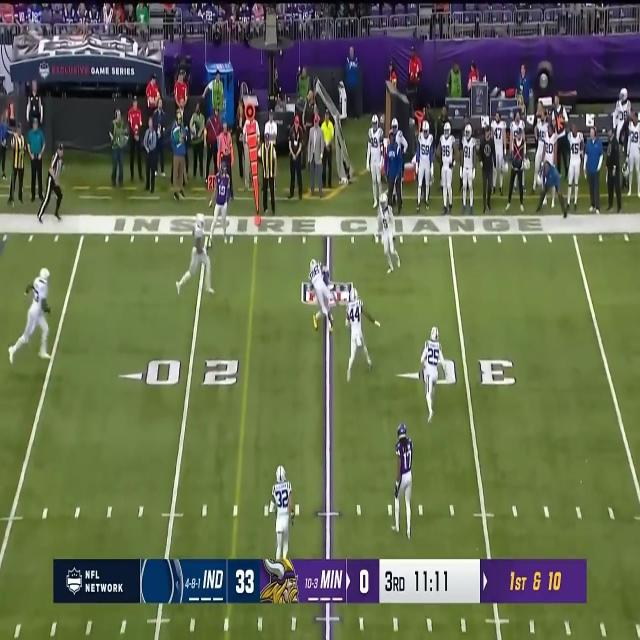players: (9, 268, 60, 367), (264, 466, 299, 567), (344, 291, 380, 383), (418, 324, 449, 426), (180, 211, 216, 298), (393, 420, 415, 542), (376, 195, 402, 282), (307, 249, 330, 332), (213, 169, 234, 249)
